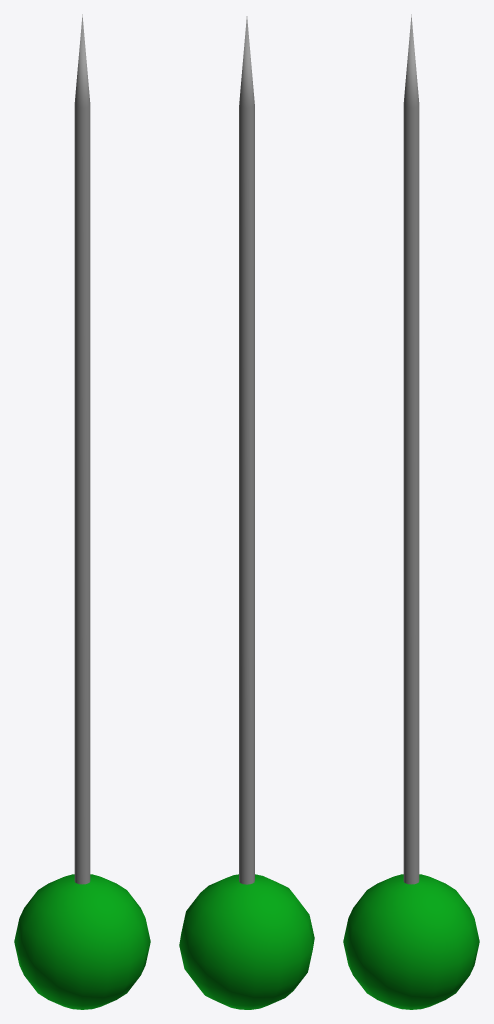
File: pin.fbx
3 renders of one model, left to right at view 1: azimuth 90°, elevation 25°; view 2: azimuth 210°, elevation 25°; view 3: azimuth 270°, elevation 25°, orthographic.
Visible parts, largest first — view 1: Base, Pin; view 2: Base, Pin; view 3: Base, Pin.
Boxes of the visible parts, x1,y1,x2,y2 form: Base: (14,874,150,1009); Pin: (74,14,90,884); Base: (179,874,314,1009); Pin: (239,16,254,884); Base: (343,874,479,1009); Pin: (403,14,419,884).
Bounding box in the file's own units: 84.6 × 676 × 84.6.
